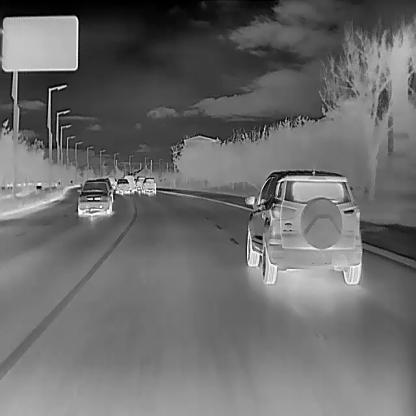car: (244, 166, 361, 284), (76, 180, 112, 214), (92, 177, 113, 202), (114, 178, 129, 193), (142, 176, 155, 193), (124, 174, 134, 191), (136, 176, 145, 188)
